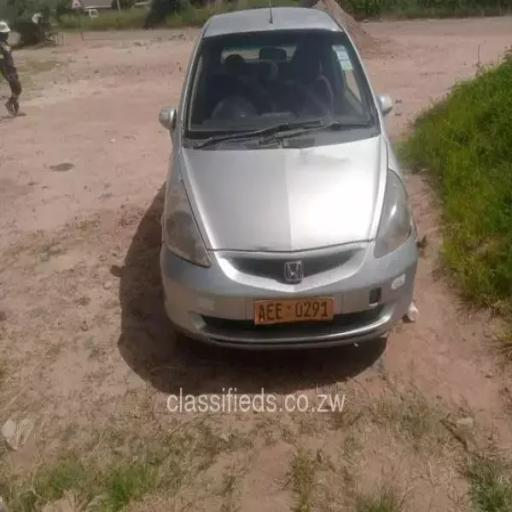number-plates: (253, 296, 335, 326)
